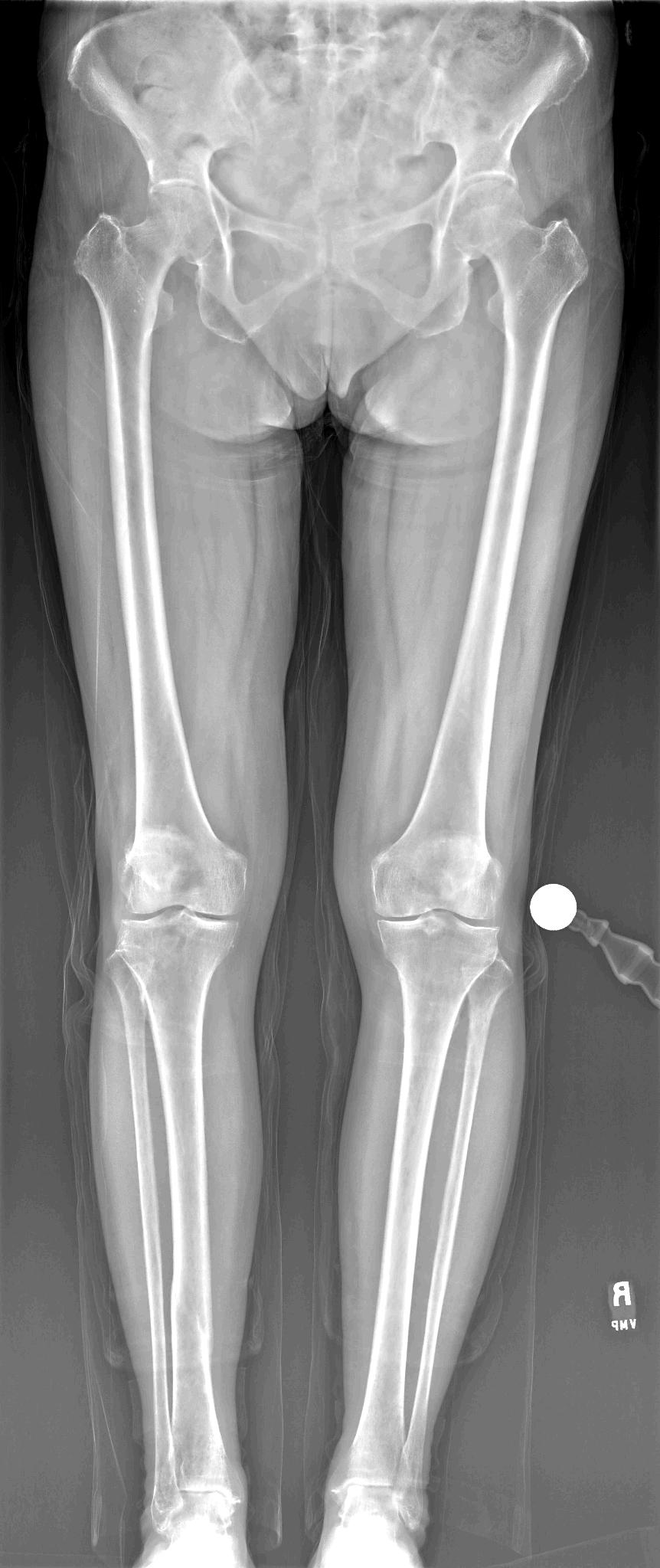Leg Fibula: (404, 960, 510, 1469), (111, 955, 181, 1530)
Leg Tibia: (349, 914, 497, 1485), (118, 910, 237, 1504)
femur: (373, 220, 587, 918), (74, 185, 246, 917)
